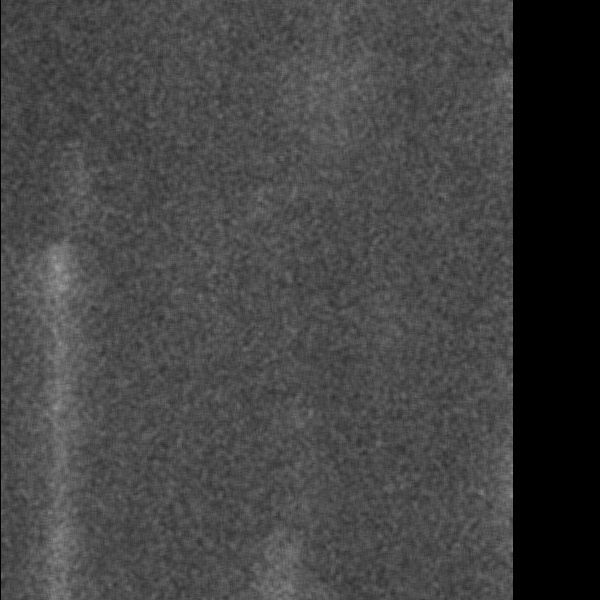spark: (257, 532, 299, 600)
